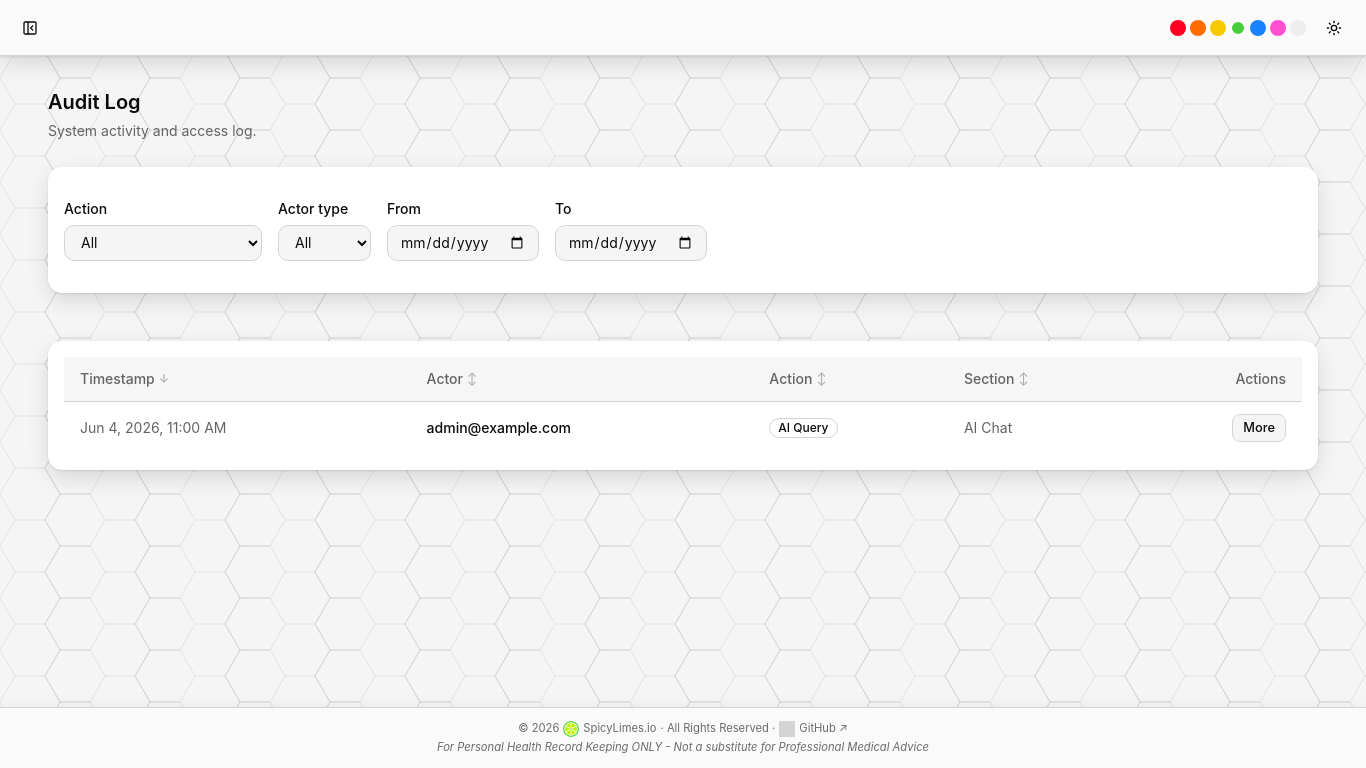
Test case: AuditLogPage › unpacks an AI row into Question / Response / Tools Used
What coordinates should you click on to do the following:
click the button with aria-label "more details"
I would click on:
 (1259, 428)
Its box is [1232,414,1286,442].
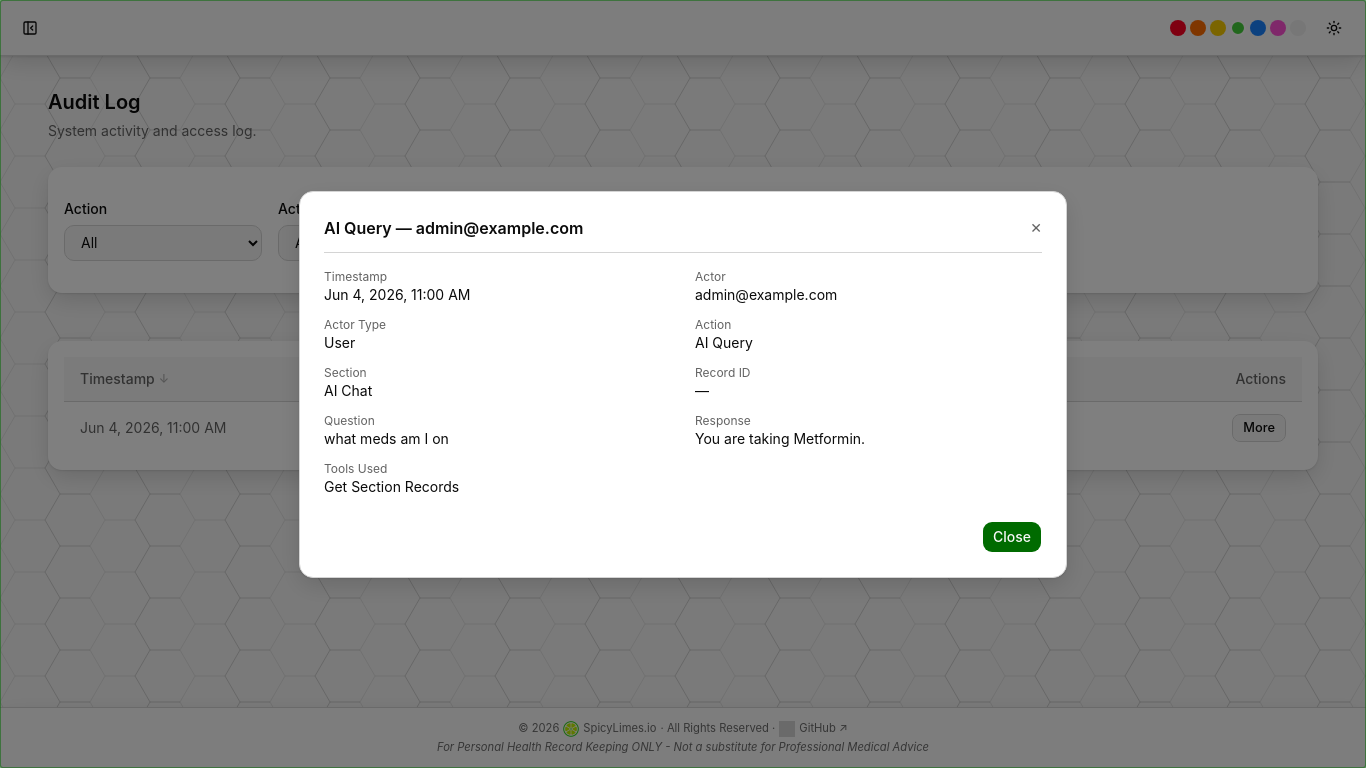
Now the dialog shows "AI Query — admin@example.com", box [324,218,583,238]
Now the dialog shows "User", box [324,334,355,350]
Now the dialog shows "AI Chat", box [324,382,372,398]
